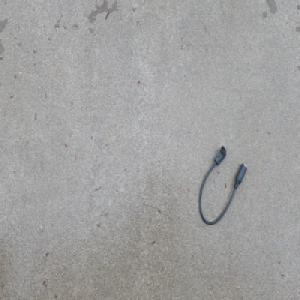Wire: (197, 145, 247, 227)
